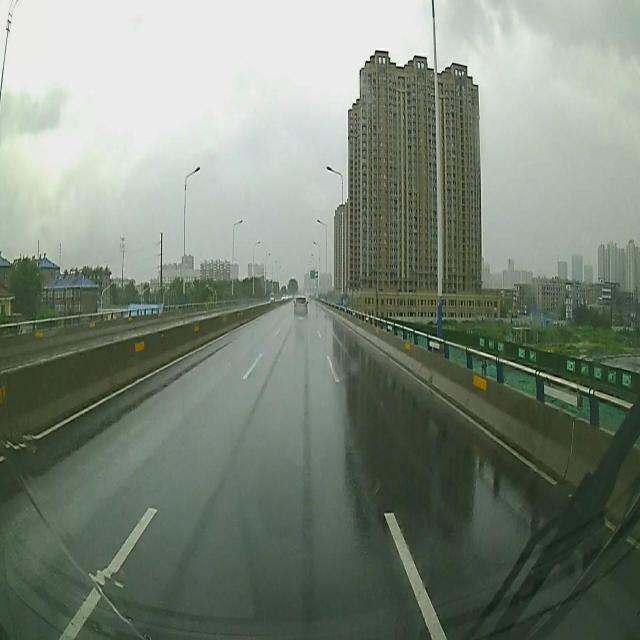car: (293, 294, 308, 318)
